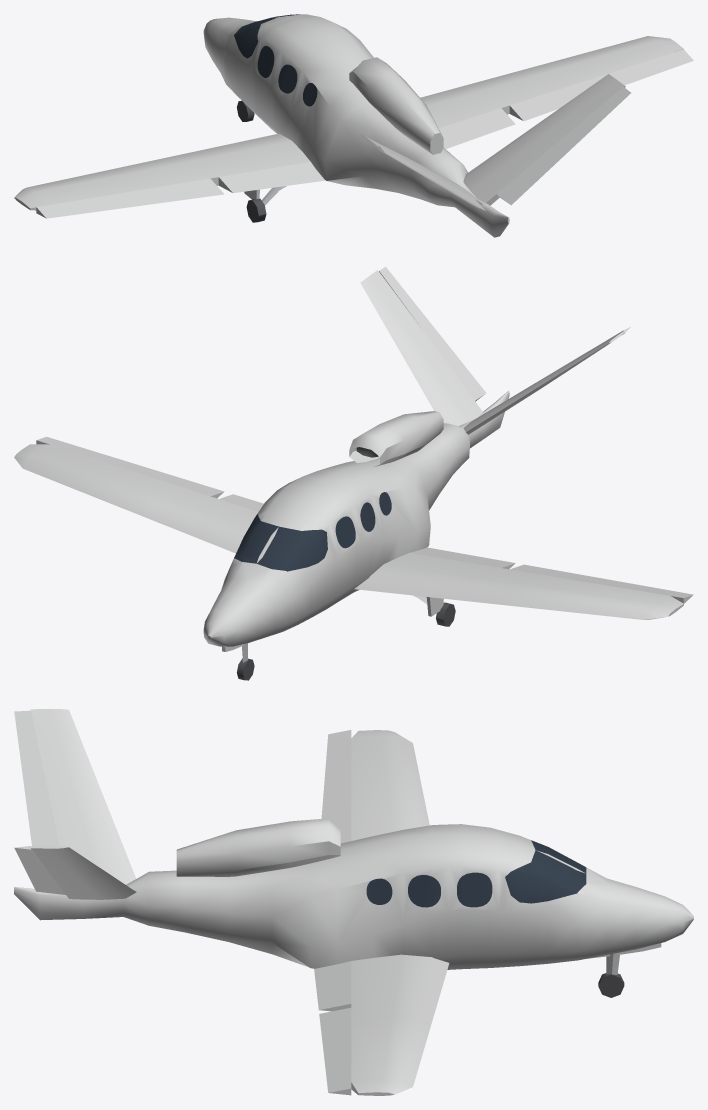
The model's file is Cirrus_Vision_Jet_LOD0.glb.
3 views of the same model, one above another, from view 1: azimuth 30°, elevation 25°; view 2: azimuth 150°, elevation 25°; view 3: azimuth 270°, elevation 25° (orthographic). The views are drawn at different scales.
Parts seen in each view (by area): view 1: Fuselage, Wing_Left, Wing_Right, VTail_Right, Nacelle, Aileron_Left, Aileron_Right, Ruddervator_Right, Flap_Left, Flap_Right, Ruddervator_Left, VTail_Left (+1 smaller); view 2: Fuselage, Wing_Left, Wing_Right, VTail_Right, Nacelle, Ruddervator_Right, Aileron_Right, VTail_Left, Aileron_Left, Flap_Left; view 3: Fuselage, Wing_Right, VTail_Left, Wing_Left, Nacelle, Ruddervator_Left, VTail_Right, Aileron_Left, Aileron_Right, Flap_Right, Ruddervator_Right.
Boxes of the visible parts, <box> form: Fuselage: <box>203,14,509,237</box>; Wing_Left: <box>14,133,310,210</box>; Wing_Right: <box>420,36,683,128</box>; VTail_Right: <box>463,74,625,205</box>; Nacelle: <box>349,57,443,154</box>; Aileron_Left: <box>36,178,223,218</box>; Aileron_Right: <box>509,49,693,121</box>; Ruddervator_Right: <box>497,86,630,205</box>; Flap_Left: <box>218,162,325,193</box>; Flap_Right: <box>438,108,515,148</box>; Ruddervator_Left: <box>377,146,485,210</box>; VTail_Left: <box>361,135,482,208</box>; Fuselage: <box>203,390,509,646</box>; Wing_Left: <box>354,553,683,619</box>; Wing_Right: <box>14,444,258,553</box>; VTail_Right: <box>360,270,482,425</box>; Nacelle: <box>349,411,443,466</box>; Ruddervator_Right: <box>379,266,486,401</box>; Aileron_Right: <box>36,436,224,498</box>; VTail_Left: <box>463,330,625,434</box>; Aileron_Left: <box>510,564,693,603</box>; Flap_Left: <box>409,547,515,569</box>; Fuselage: <box>14,824,693,969</box>; Wing_Right: <box>351,954,449,1095</box>; VTail_Left: <box>30,709,136,884</box>; Wing_Left: <box>351,730,429,840</box>; Nacelle: <box>176,818,340,876</box>; Ruddervator_Left: <box>14,710,59,846</box>; VTail_Right: <box>30,846,136,899</box>; Aileron_Left: <box>321,730,351,843</box>; Aileron_Right: <box>319,1007,351,1095</box>; Flap_Right: <box>314,961,351,1011</box>; Ruddervator_Right: <box>14,846,65,894</box>.
Size of the model in its own units: 11.8 by 3.32 by 9.36.
